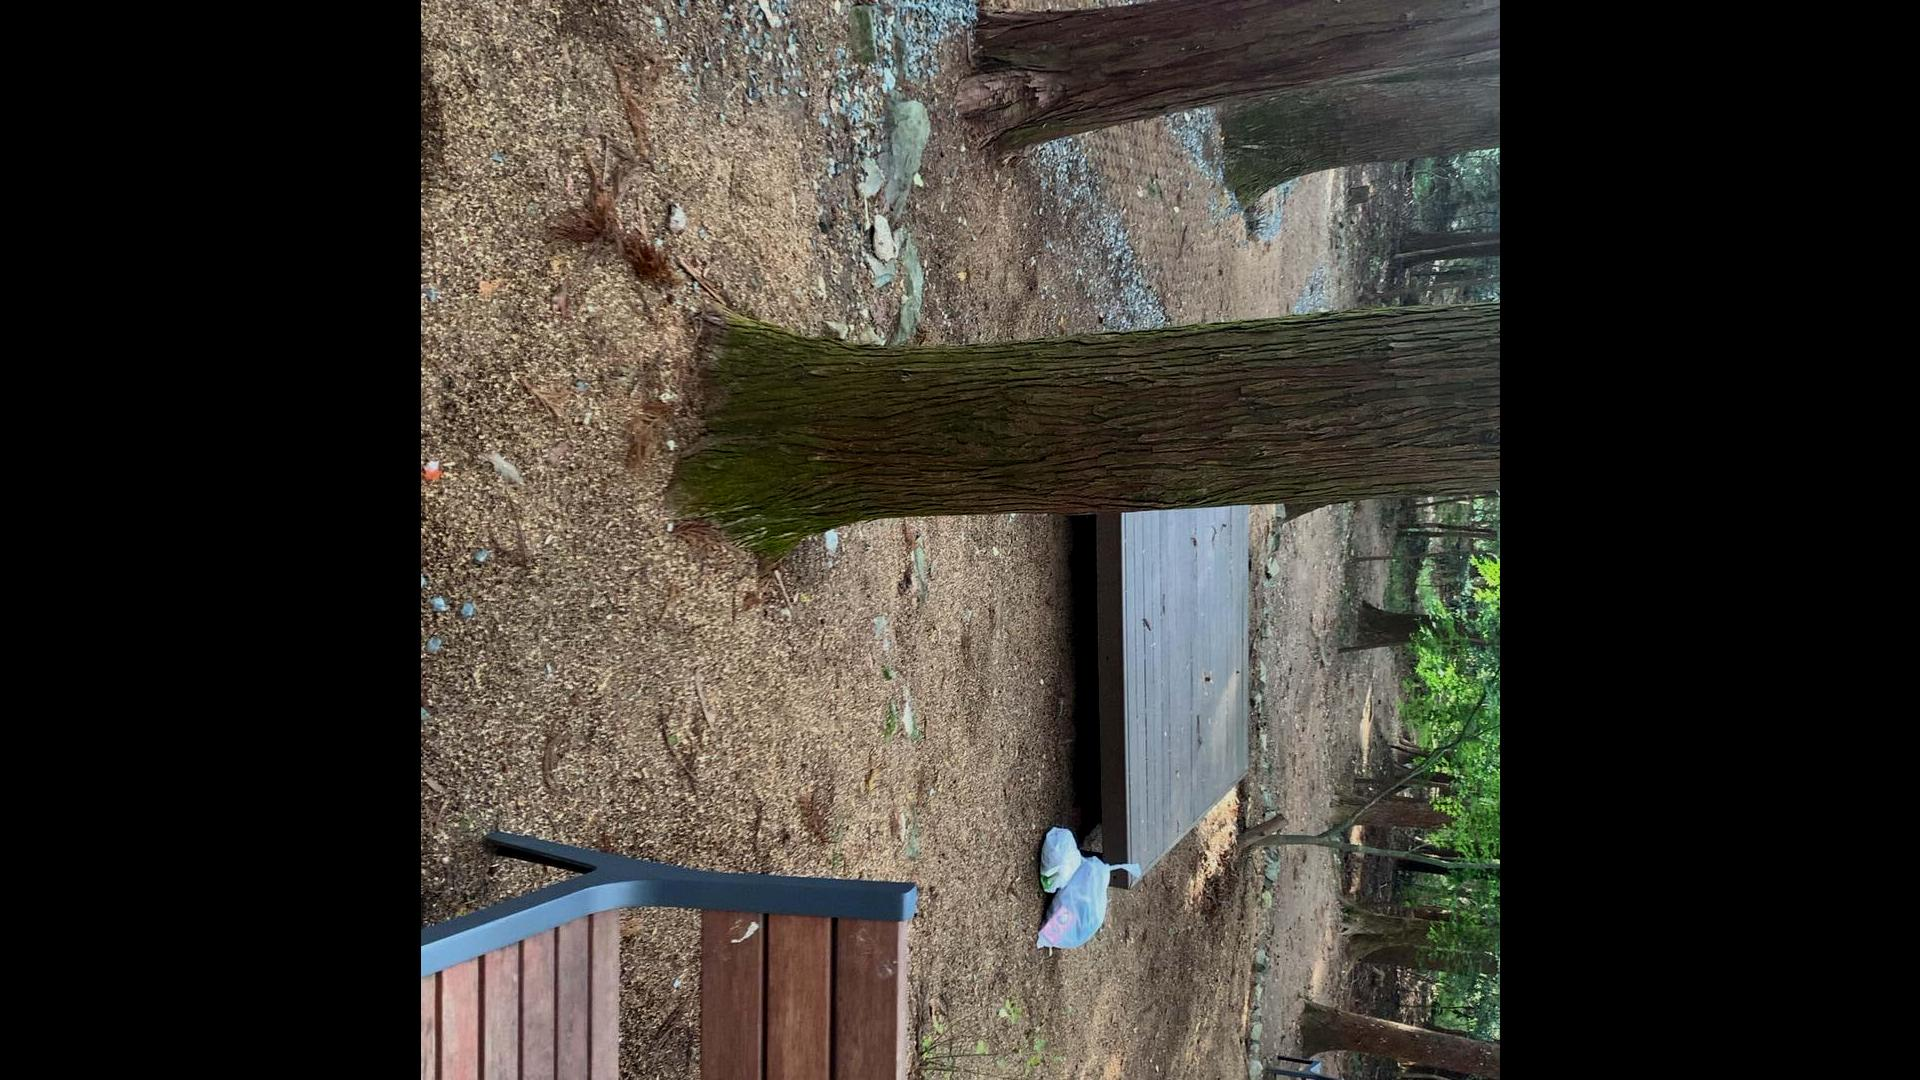white_bag: (1033, 851, 1141, 956), (1036, 822, 1084, 897)
